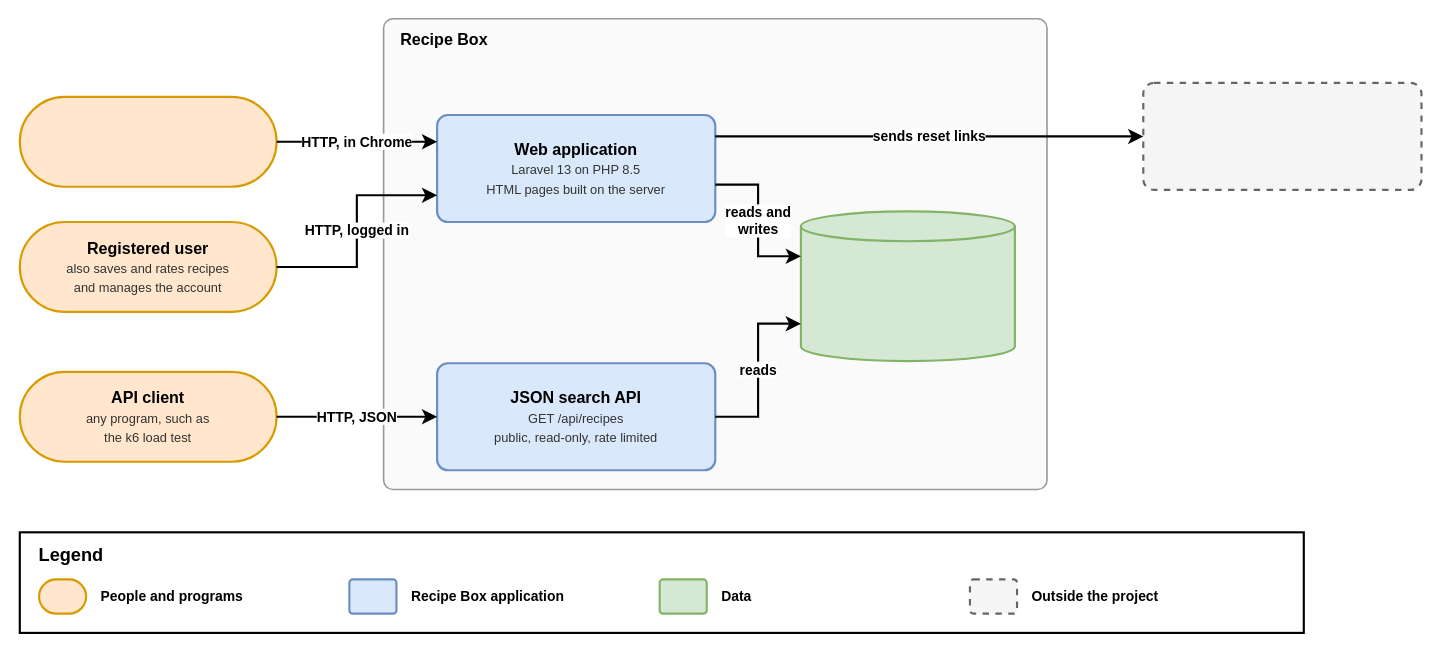
Image size: 1440x653. Some labels were removed from this diagram. Here are the shapes that lost their labels. From the top down, the centre of each, then its label:
the point at 147,141: Visitor searches and reads recipes, no account needed
the point at 1282,135: Mail password reset links; written to the log file in development
the point at 907,286: MySQL / MariaDB recipes, users, favourites, ratings, sessions
